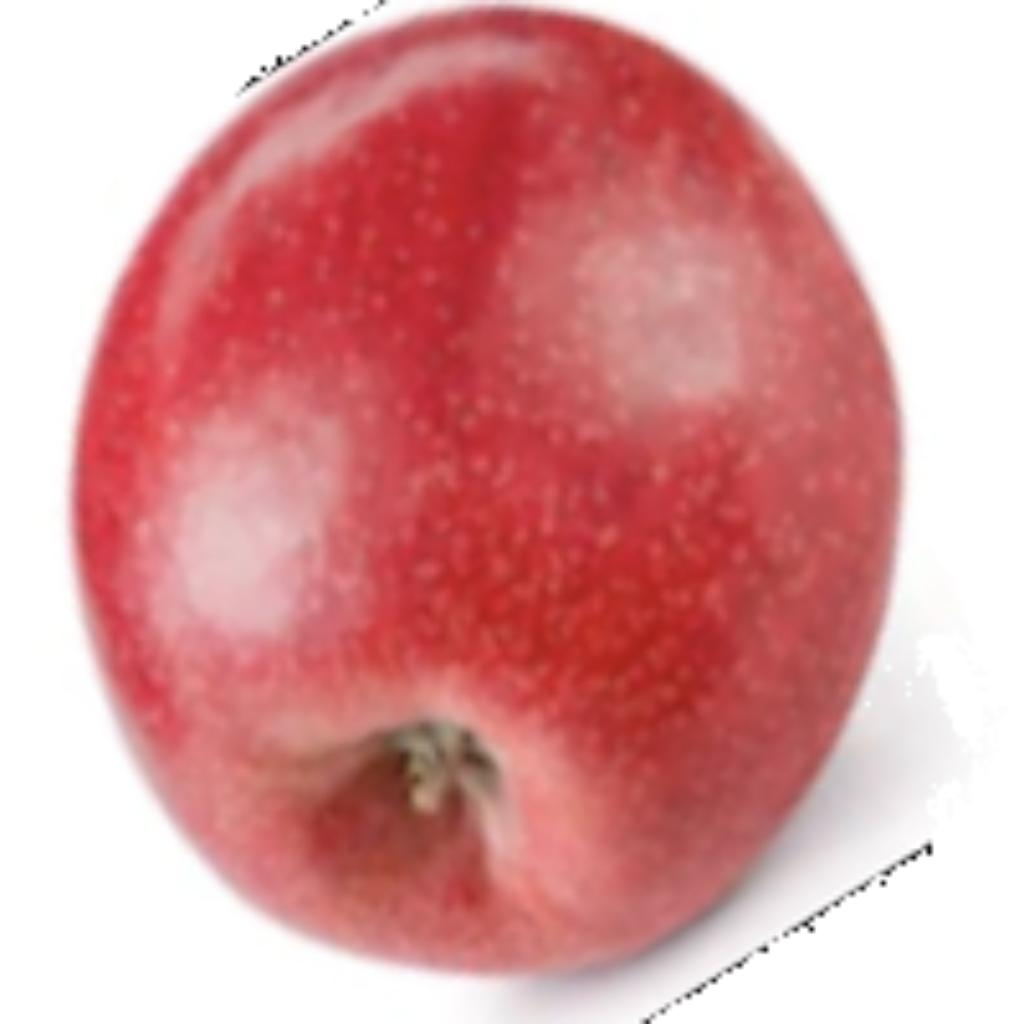apple: (56, 0, 978, 1019)
